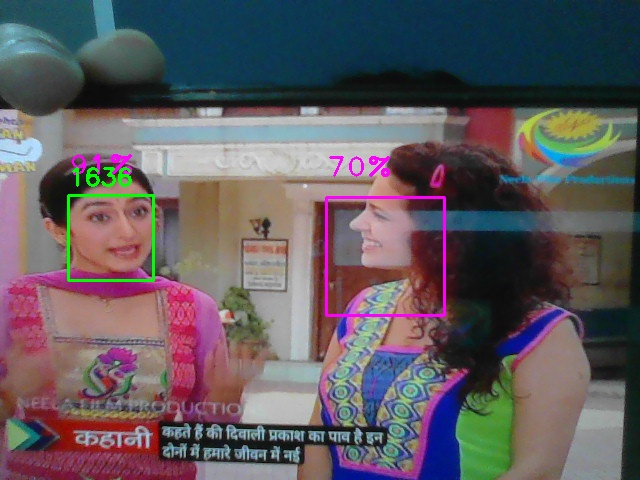fake: (68, 195, 154, 281)
